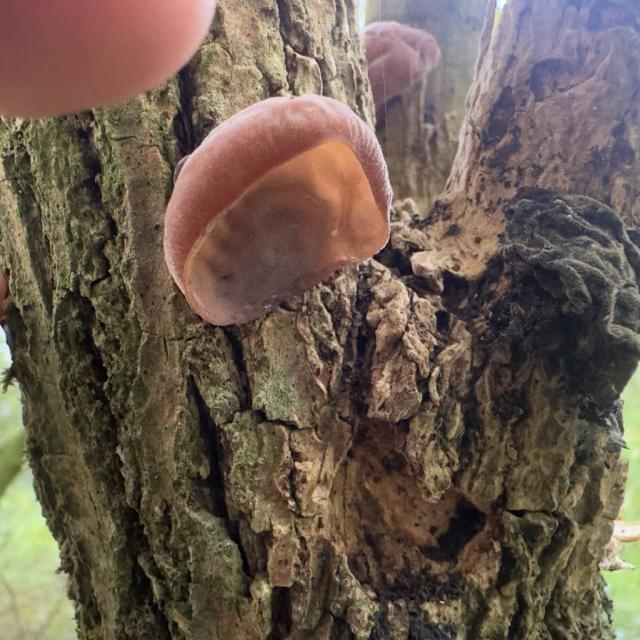Matang: (162, 90, 398, 333), (362, 15, 448, 112)
